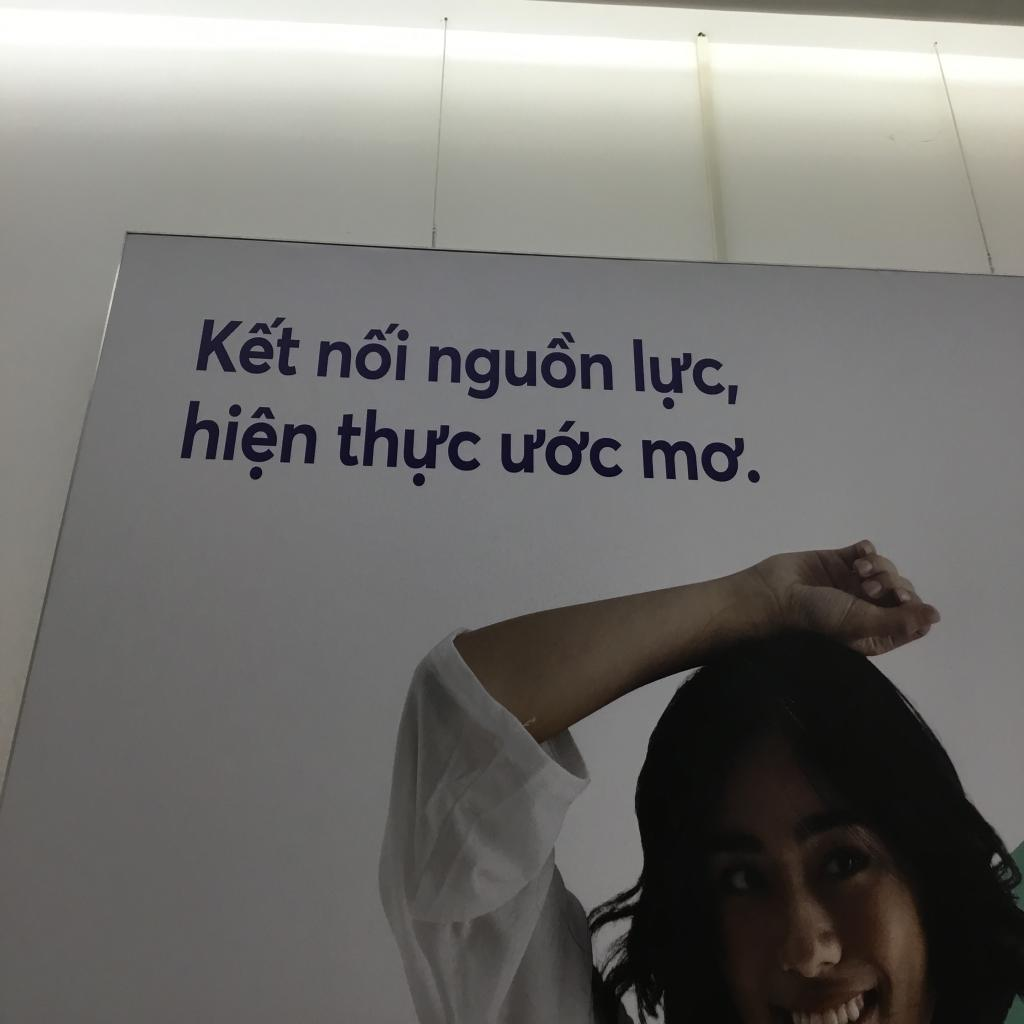text: (424, 329, 616, 402), (175, 389, 321, 484), (329, 406, 485, 490), (628, 332, 744, 414), (192, 306, 307, 382), (499, 419, 627, 484), (314, 319, 414, 384)
